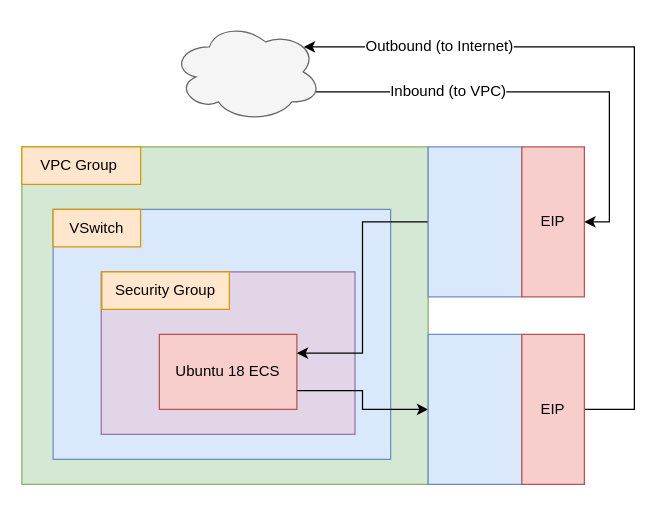
Some shapes in this 666 by 506 pixel diagram are drawn without their labels. The box of each missing label's shape, as (x1, y1, x2, y2) in pixels:
Internet: (171, 21, 322, 122)
NAT Gateway (SNAT): (427, 333, 522, 484)
VPN Gateway: (427, 146, 522, 297)
